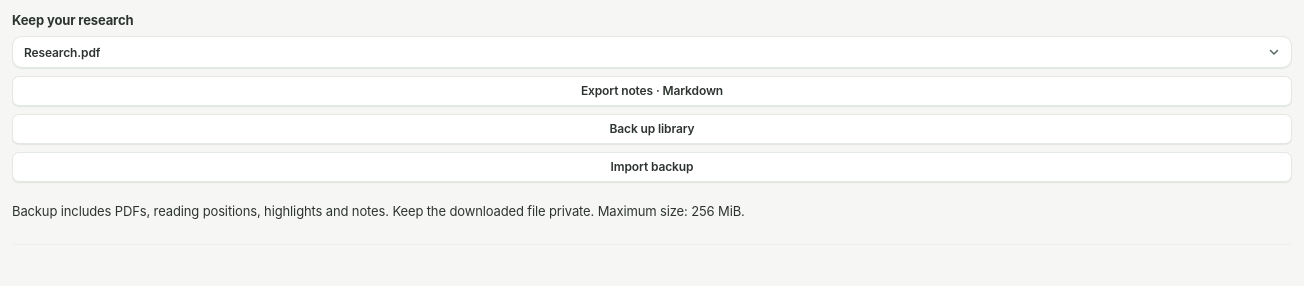
Test: exports the selected paper or all papers and downloads the library separately
Click the button "Export notes · Markdown": (652, 91) [12, 76, 1292, 106]
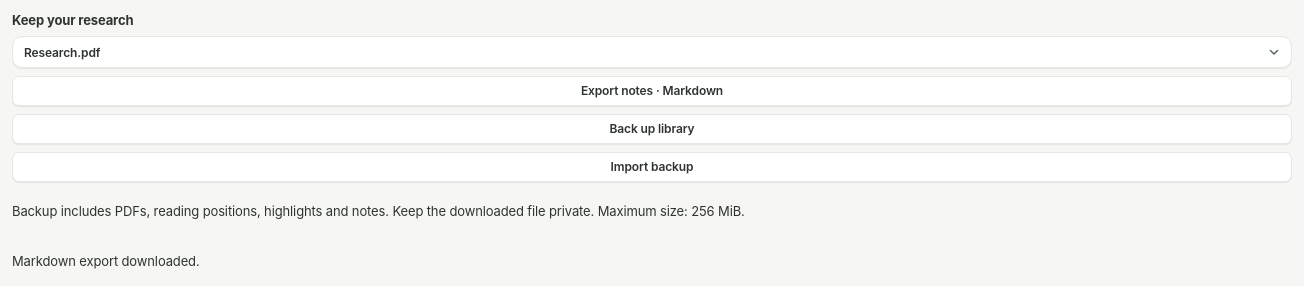
Expected: the text "Markdown export downloaded." is shown, [12, 253, 200, 269]
Click the dropdown named "Paper to export": (62, 52) [12, 36, 1292, 68]
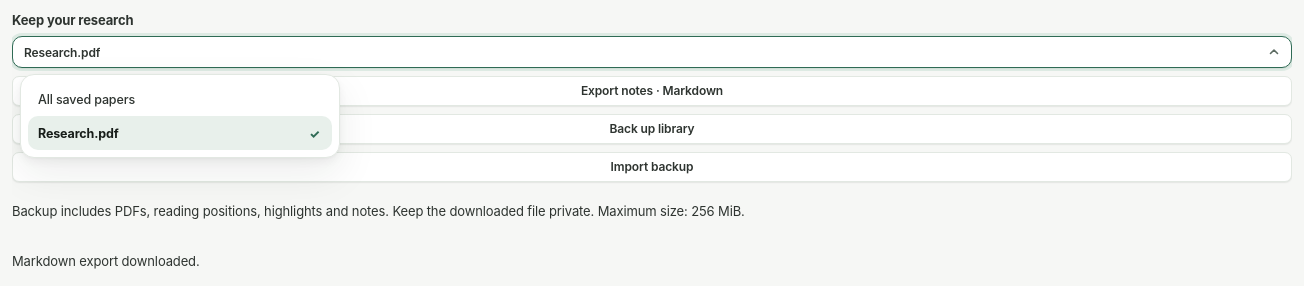
Click the option "All saved papers": (86, 99) [38, 92, 135, 106]
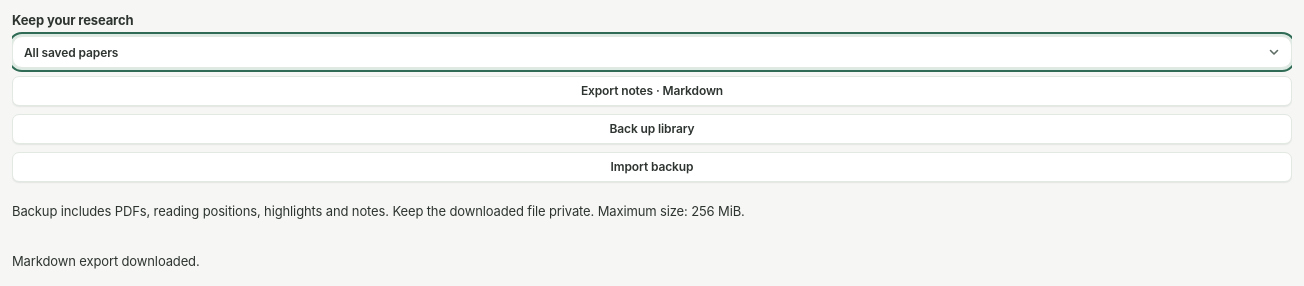
Click the button "Export notes · Markdown": (652, 91) [12, 76, 1292, 106]
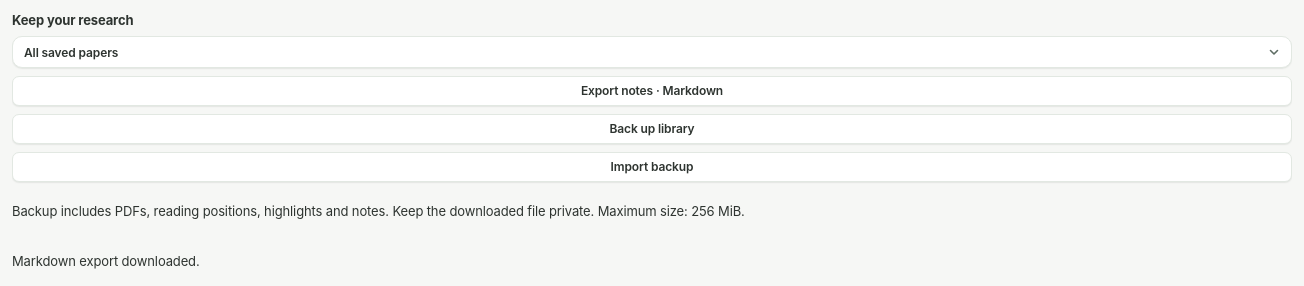
Click the button "Back up library": (652, 129) [12, 114, 1292, 144]
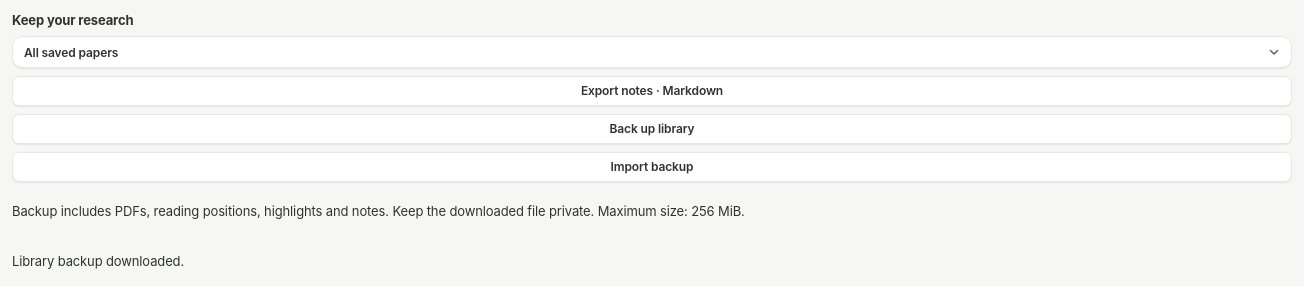
Expected: the text "Library backup downloaded." is shown, [12, 253, 184, 269]
